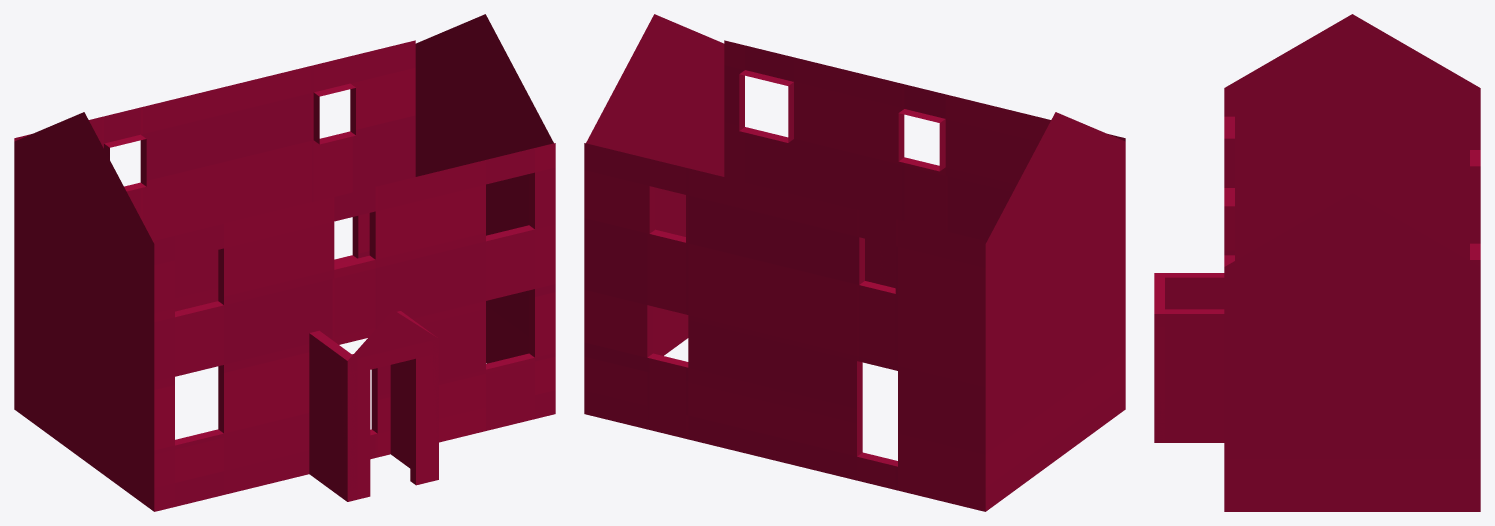
Rendered from SM_Bld_222_Masonry.glb.
The picture shows the model from 3 angles, left to right: view 1: azimuth 30°, elevation 25°; view 2: azimuth 150°, elevation 25°; view 3: azimuth 270°, elevation 25°; orthographic projection. The views are drawn at different scales.
Parts seen in each view (by area): view 1: SM_Bld_222_Masonry; view 2: SM_Bld_222_Masonry; view 3: SM_Bld_222_Masonry.
Part boxes in pixels (left/top/right/bottom): SM_Bld_222_Masonry: left=14, top=14, right=555, bottom=511; SM_Bld_222_Masonry: left=584, top=14, right=1125, bottom=511; SM_Bld_222_Masonry: left=1154, top=14, right=1480, bottom=511.
Bounding box in the file's own units: 8.78 × 7.29 × 6.76.
